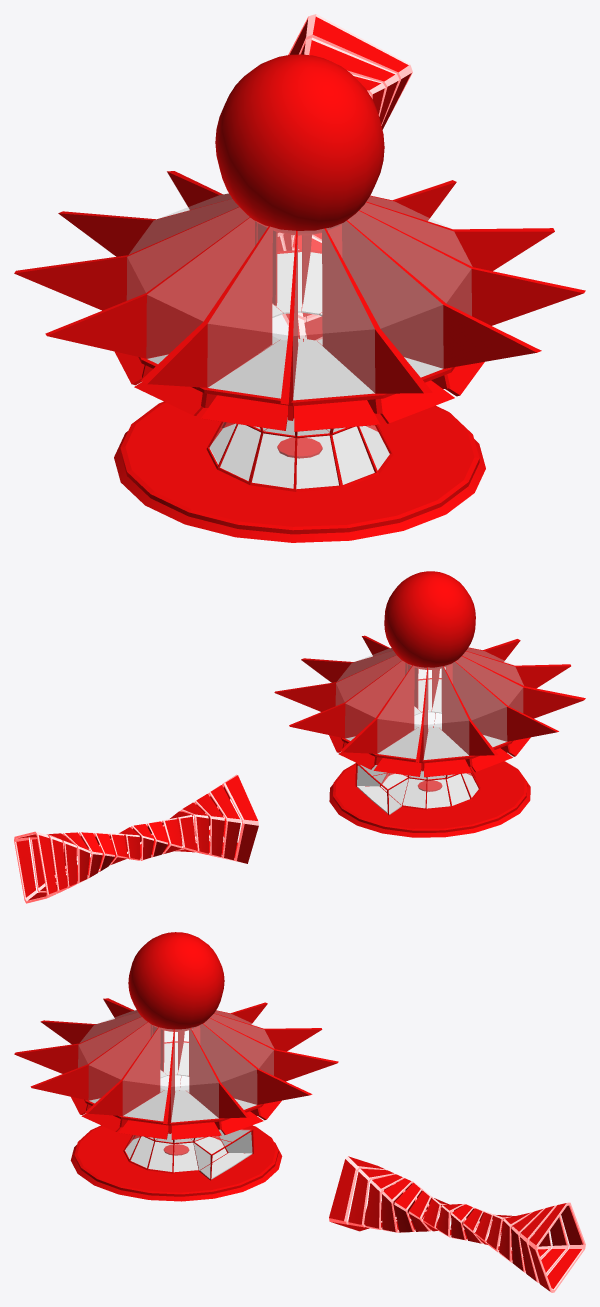
File: TokioHouse.glb
3 views of the same model, one above another, from view 1: azimuth 30°, elevation 25°; view 2: azimuth 150°, elevation 25°; view 3: azimuth 270°, elevation 25° (orthographic). The views are drawn at different scales.
Visible parts, largest first — view 1: polySurface4090; view 2: polySurface4090; view 3: polySurface4090.
Part boxes in pixels (x1=…): polySurface4090: x1=14, y1=14, x2=585, y2=542; polySurface4090: x1=14, y1=571, x2=585, y2=903; polySurface4090: x1=14, y1=932, x2=585, y2=1292.
Size of what is drawn, in the model's own units: 72.94 by 45.85 by 95.48.
